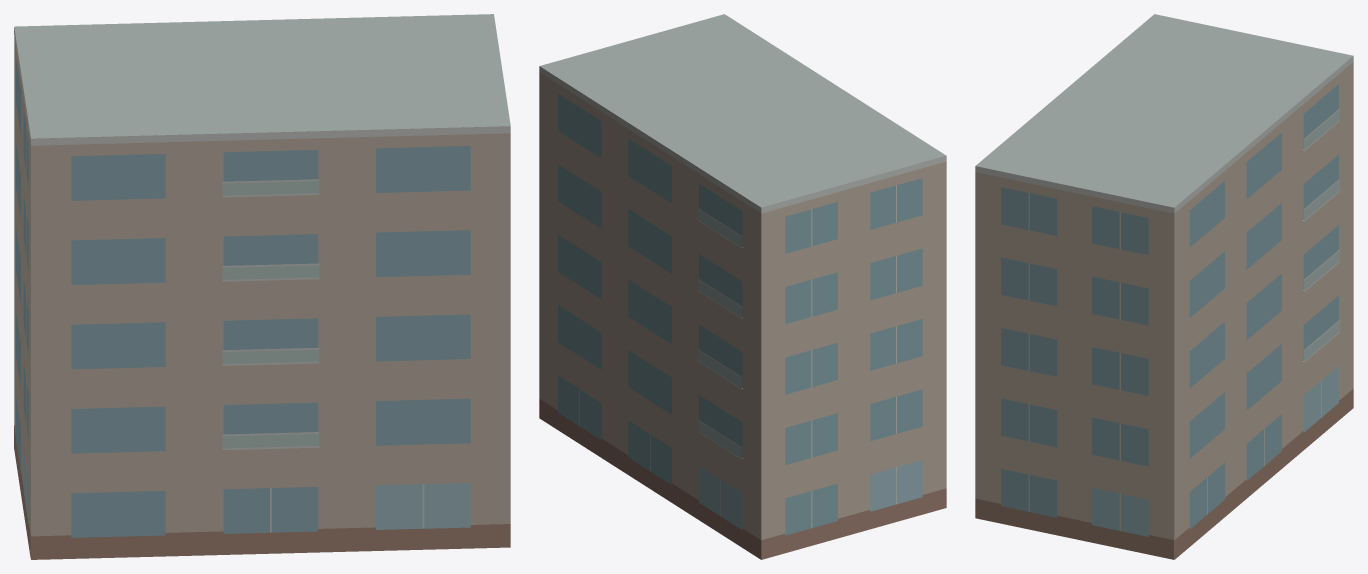
The model's file is survey-upis-33041036.glb.
The picture shows the model from 3 angles, left to right: view 1: azimuth 30°, elevation 25°; view 2: azimuth 150°, elevation 25°; view 3: azimuth 270°, elevation 25°; orthographic projection. The views are drawn at different scales.
Parts seen in each view (by area): view 1: survey-upis-33041036.tmp; view 2: survey-upis-33041036.tmp; view 3: survey-upis-33041036.tmp.
Part boxes in pixels (<box>): survey-upis-33041036.tmp: <box>14,14,510,559</box>; survey-upis-33041036.tmp: <box>539,14,946,559</box>; survey-upis-33041036.tmp: <box>975,14,1353,559</box>.
Bounding box in the file's own units: 17.12 × 14.5 × 14.13.
